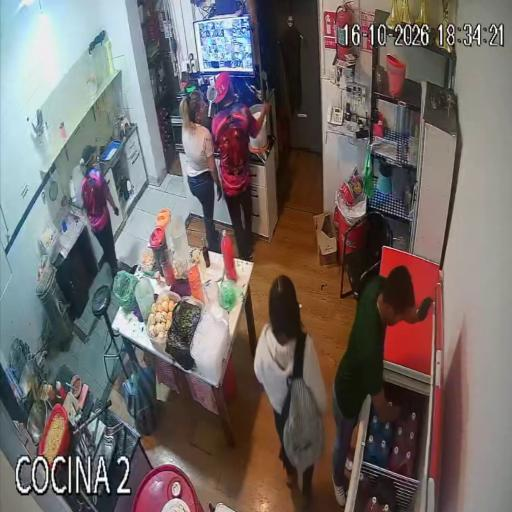Envase Ketchup: (57, 380, 66, 400)
Envase Llajua: (48, 388, 61, 405)
Jarra1: (150, 228, 166, 274)
Jarra2: (156, 209, 172, 244)
Jarra3: (170, 215, 189, 265)
Persona1: (211, 72, 270, 260)
Persona2: (80, 145, 119, 276)
Persona3: (180, 90, 222, 252)
Persona4: (331, 265, 432, 506)
Persona5: (254, 275, 326, 497)
Taper: (40, 225, 60, 261)
Taper2: (166, 296, 203, 370)
Taper3: (190, 304, 230, 384)
Taper4: (146, 290, 182, 352)
olla1: (19, 358, 38, 401)
